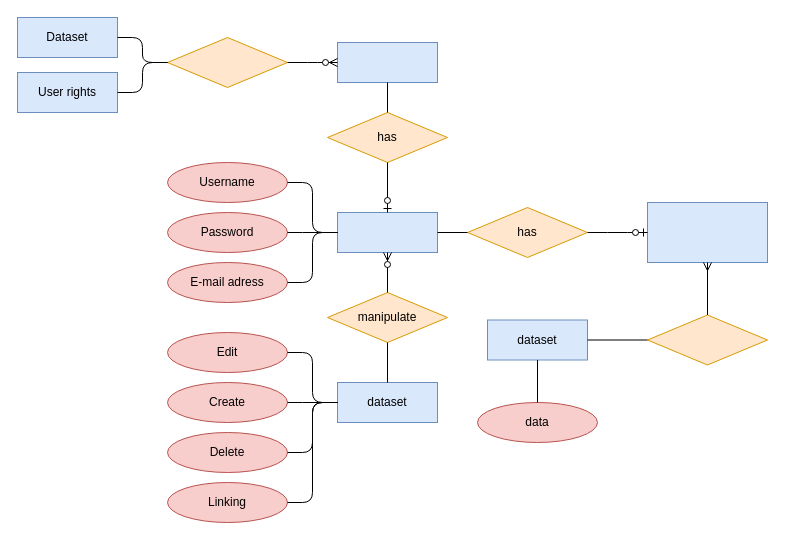
This 785x540 diagram has some shape labels left out. Each missing label, with the centre of its shape:
Account: point (387, 232)
change: point (227, 62)
Character: point (707, 232)
search: point (707, 339)
SuperUser: point (387, 62)
